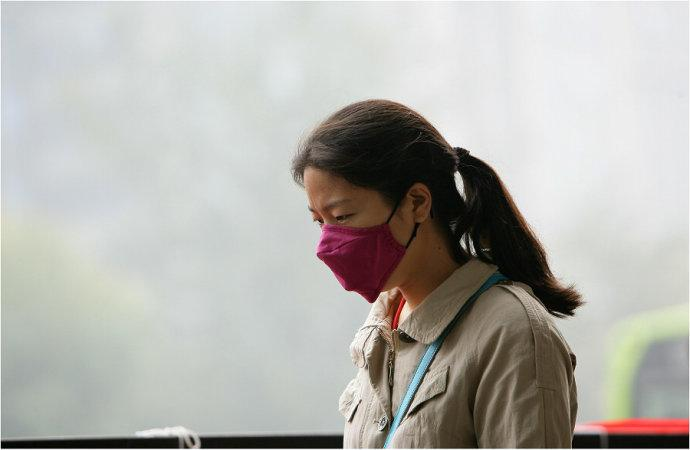person: (289, 98, 587, 450)
